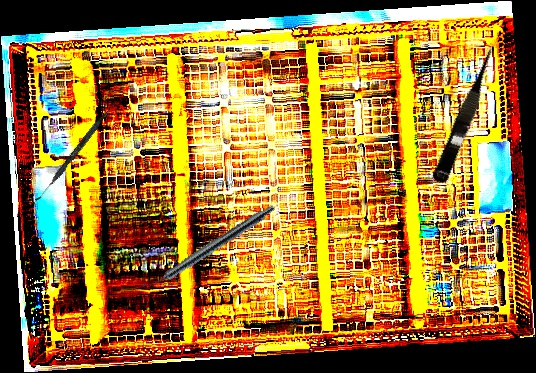Handpiece: (139, 199, 278, 297)
Micro Scissor: (430, 39, 505, 188)
Spatula Surgical: (35, 99, 117, 204)
